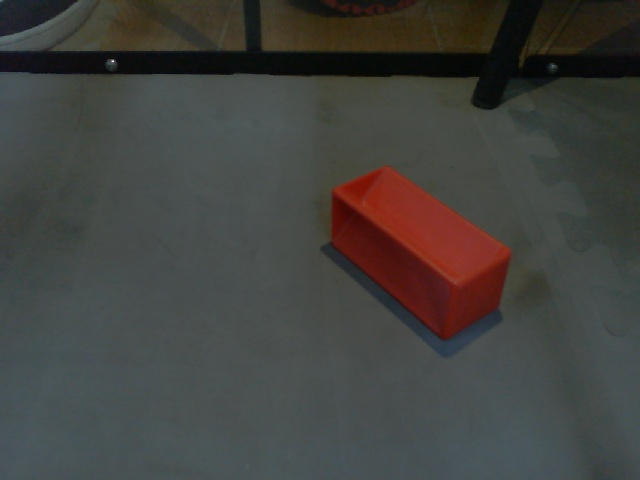RedSample: (328, 164, 514, 345)
